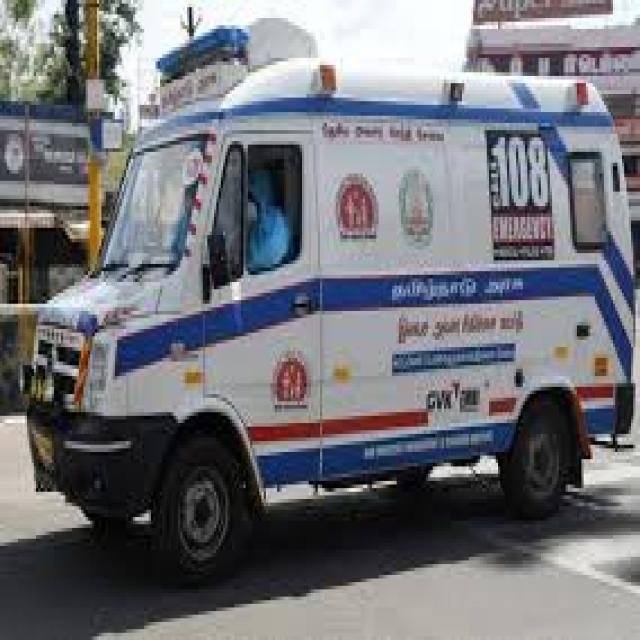Ambulance: (22, 28, 640, 571)
